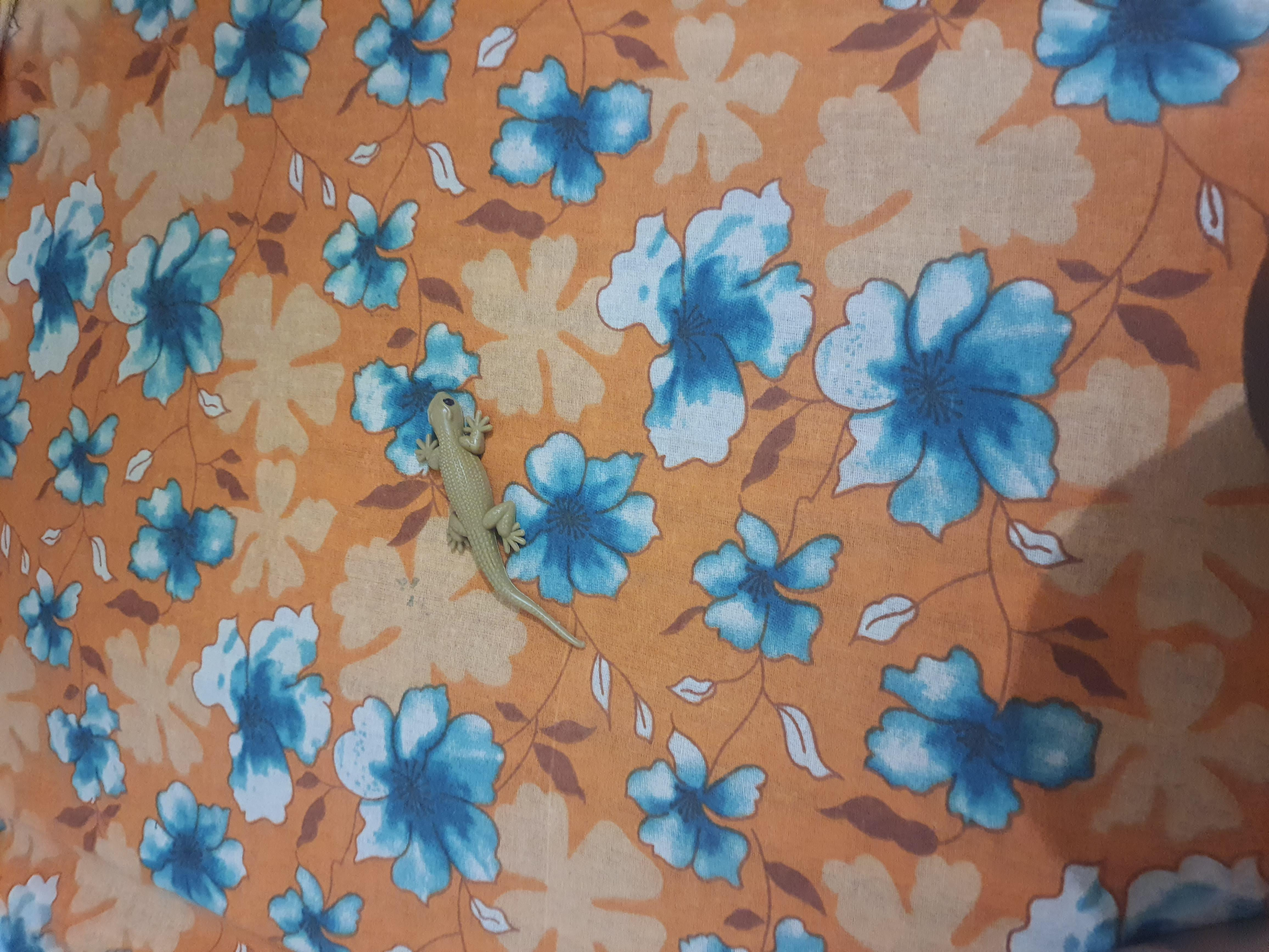lizard: (407, 301, 752, 442)
